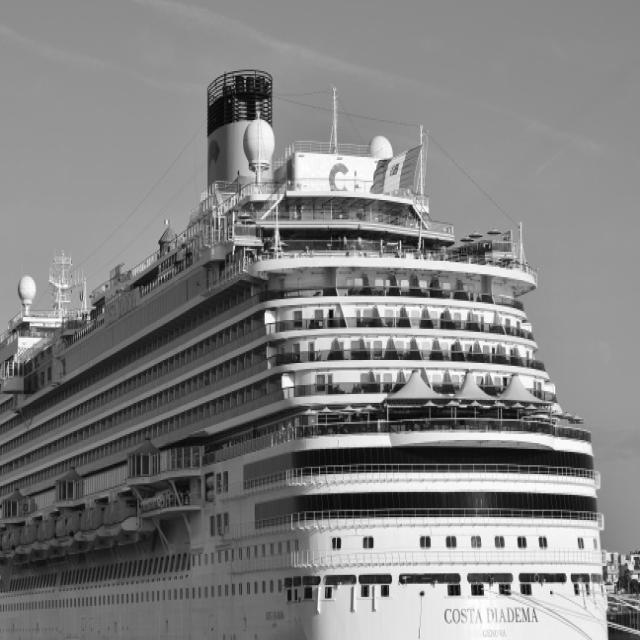cruises: (1, 59, 615, 640)
